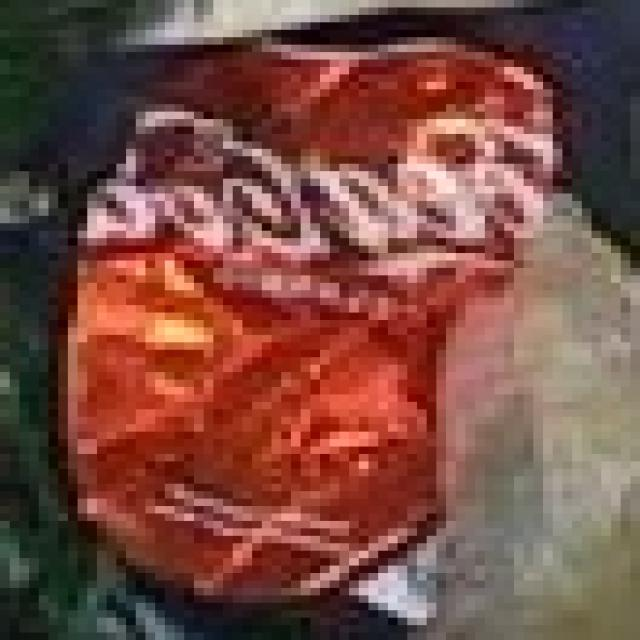can: (20, 26, 596, 637)
